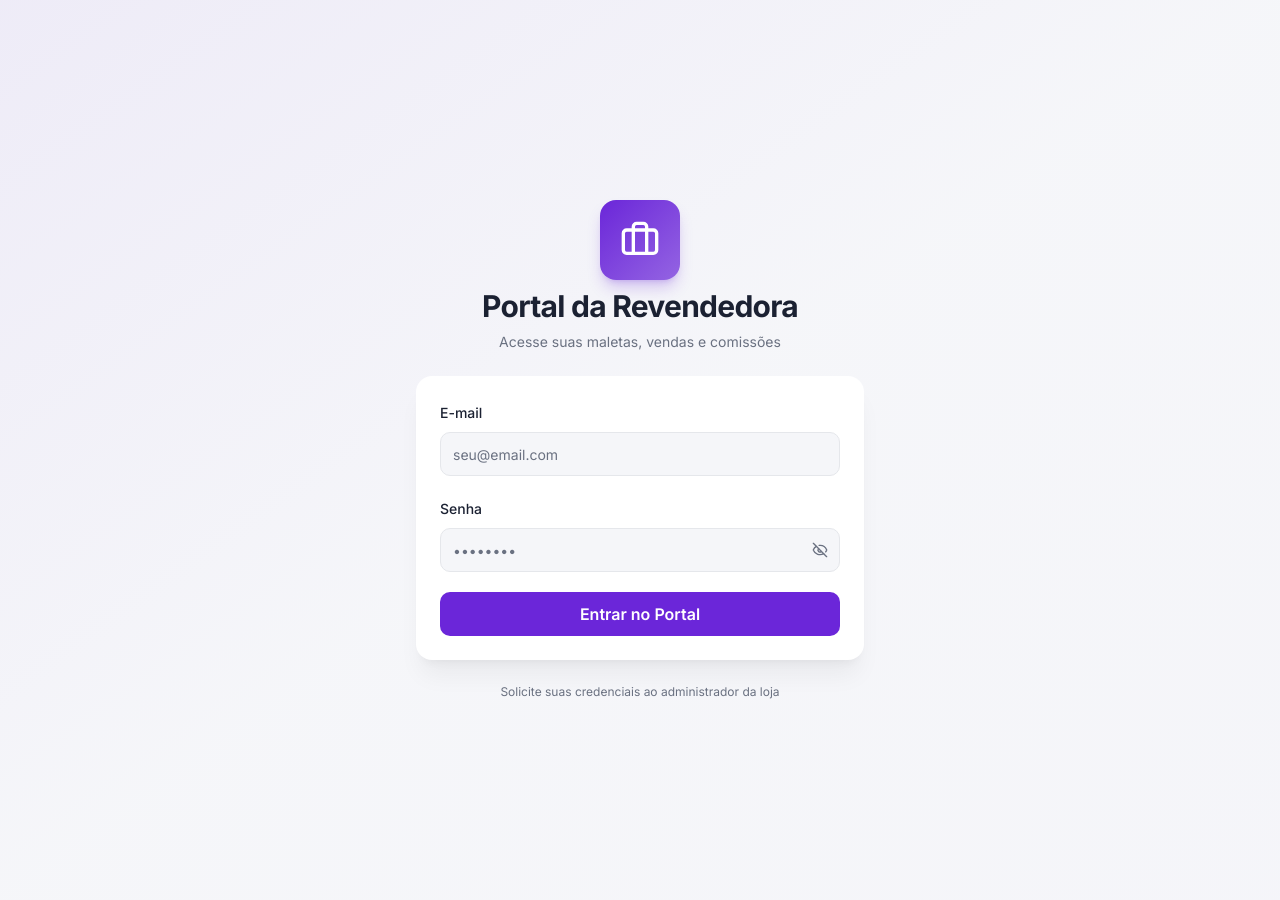
Test: portal da revendedora — fluxo completo › faz login, lista a maleta e usa sempre o token nas chamadas
This screenshot has width=1280, height=900.
Type "maria@a.com" into the field labelled "E-mail" at [640, 454], box [440,432,840,476]
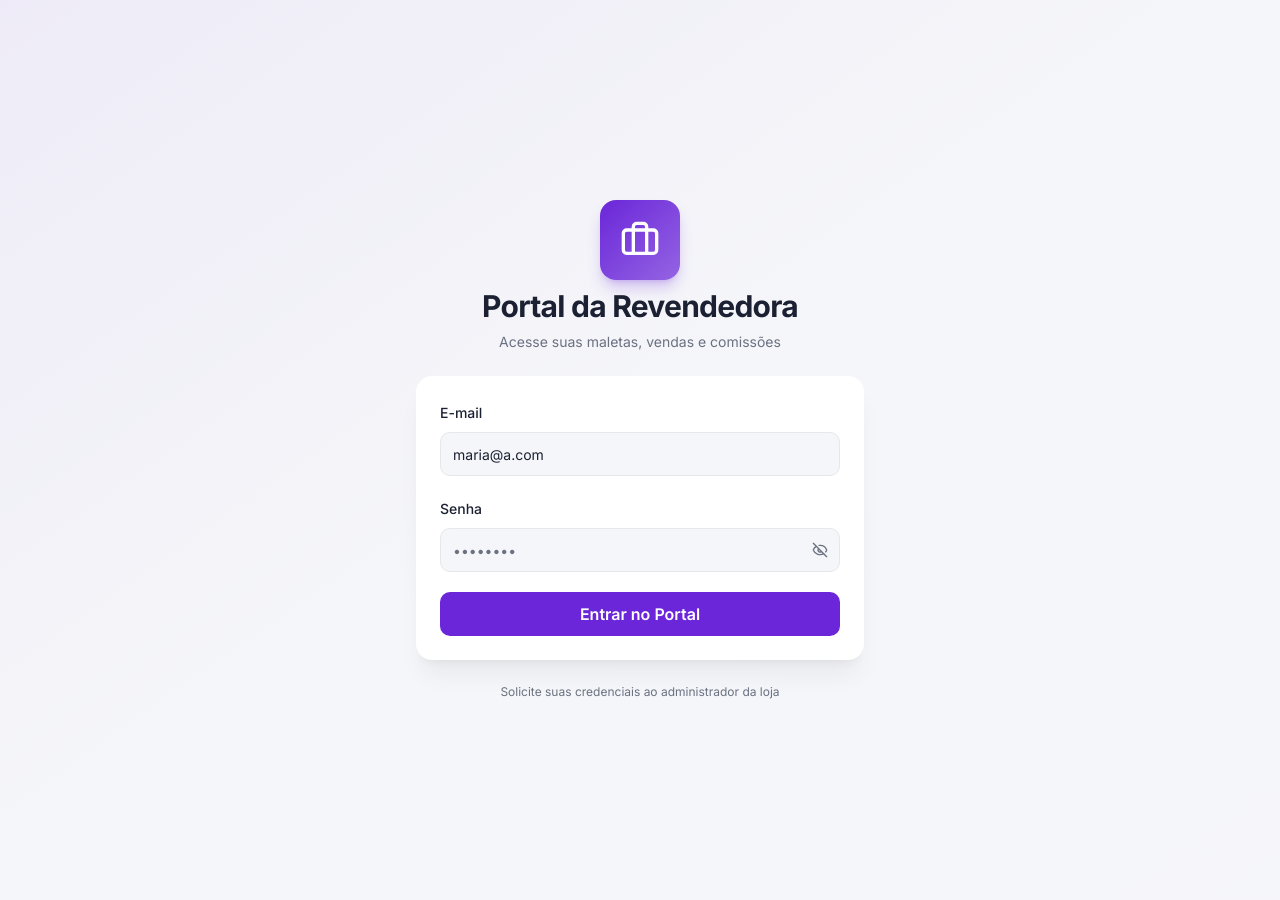
Type "segredo123" into the password field labelled "Senha" at [640, 550], box [440,528,840,572]
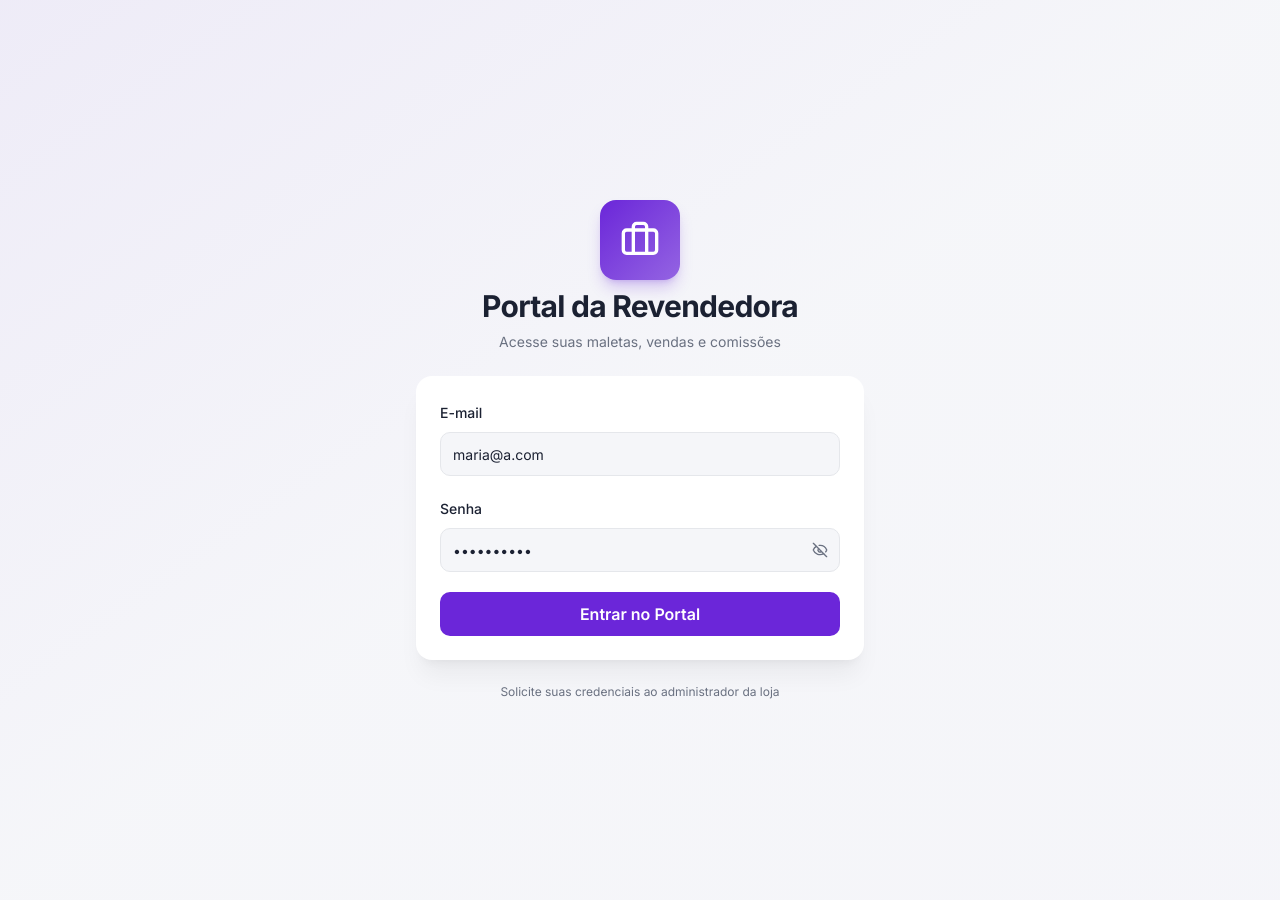
Click the button "Entrar no Portal" at [640, 614], box [440,592,840,636]
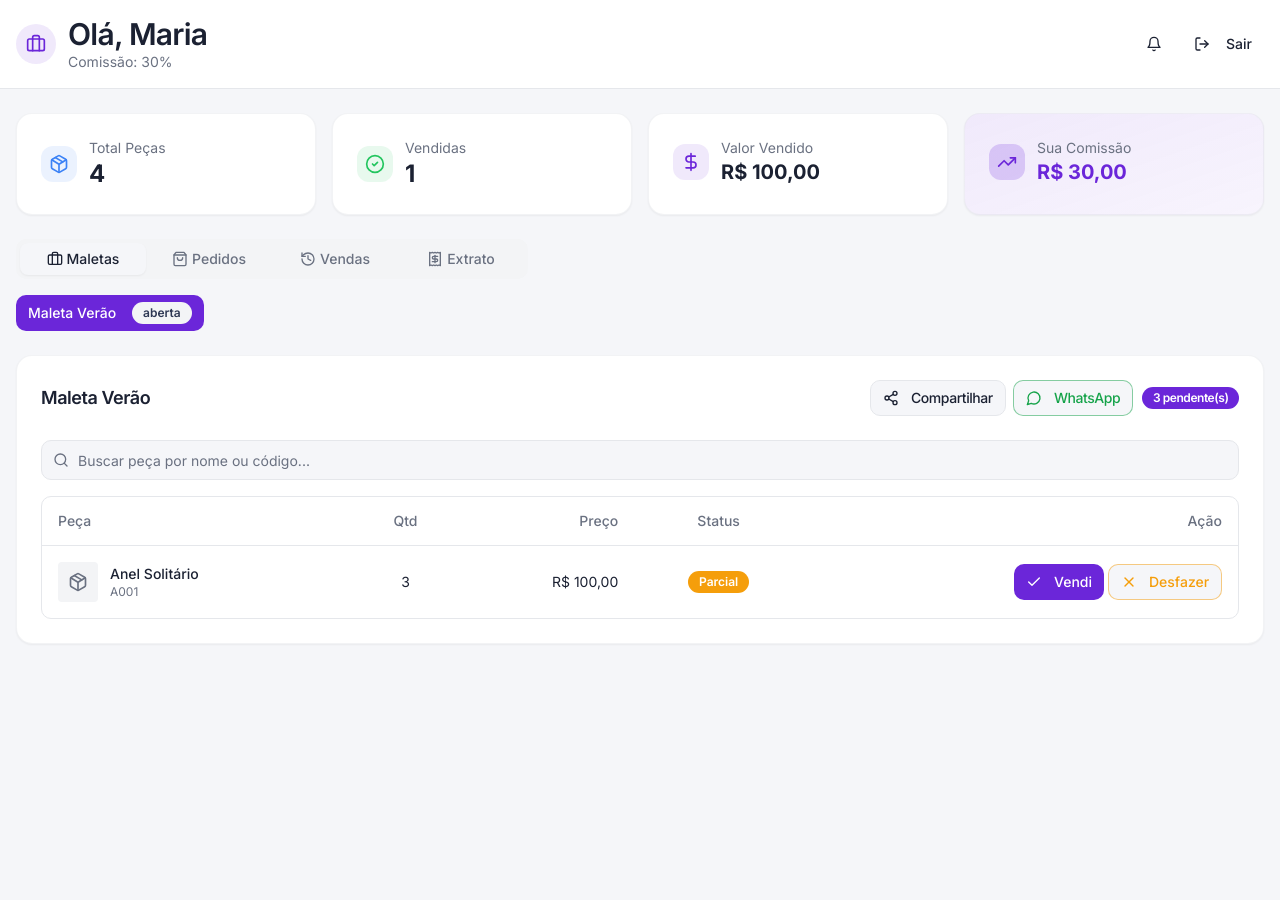
Expected: the button "Maleta Verão aberta" is shown, [16,295,204,331]
Expected: the text "Anel Solitário" is shown, [110,564,199,584]
